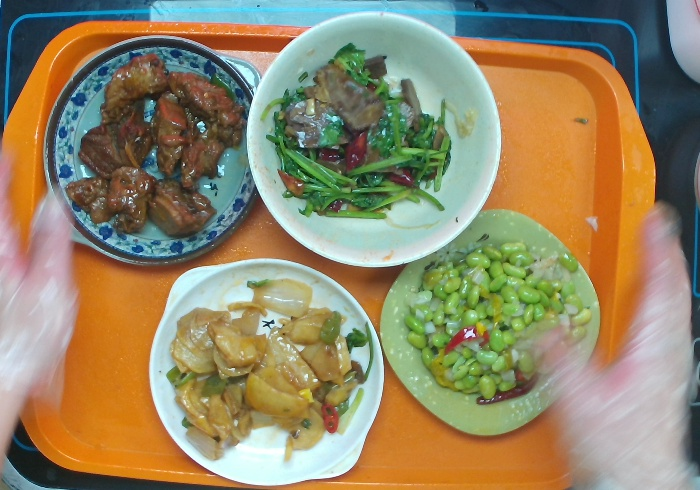NLDX-Bai_Se_Shuang_Er_Die: (144, 256, 387, 489)
NLDX-Bai_Se_Yuan_Wan: (243, 7, 505, 267)
NLDX-Lv_Hua_Fang_Die: (376, 206, 603, 441)
NLDX-Qing_Hua_Shuang_Er_Die: (33, 32, 264, 266)
